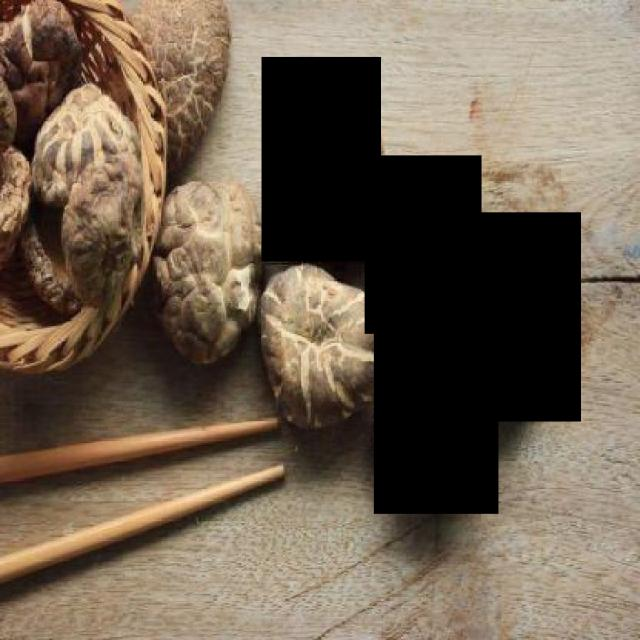Mushroom: (464, 212, 581, 422), (262, 57, 380, 261), (374, 320, 498, 514), (364, 155, 482, 334)
